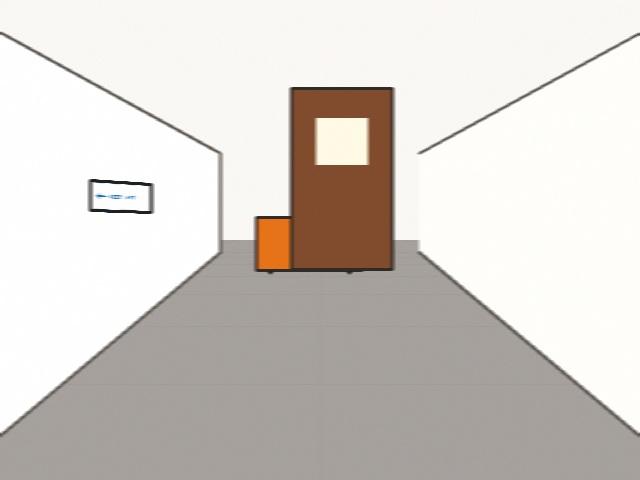cart: (256, 217, 362, 270)
directional_sign: (90, 180, 151, 212)
door: (291, 88, 392, 269)
